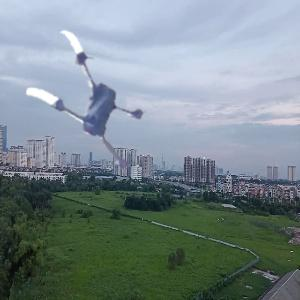drone: (9, 29, 163, 183)
